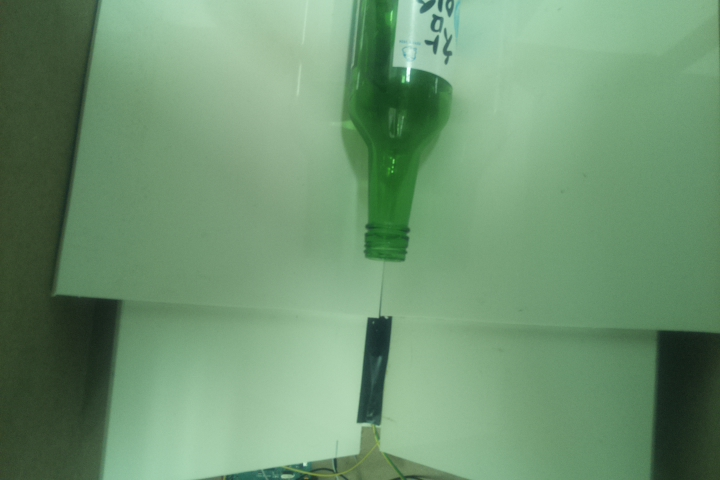soju: (340, 1, 464, 263)
